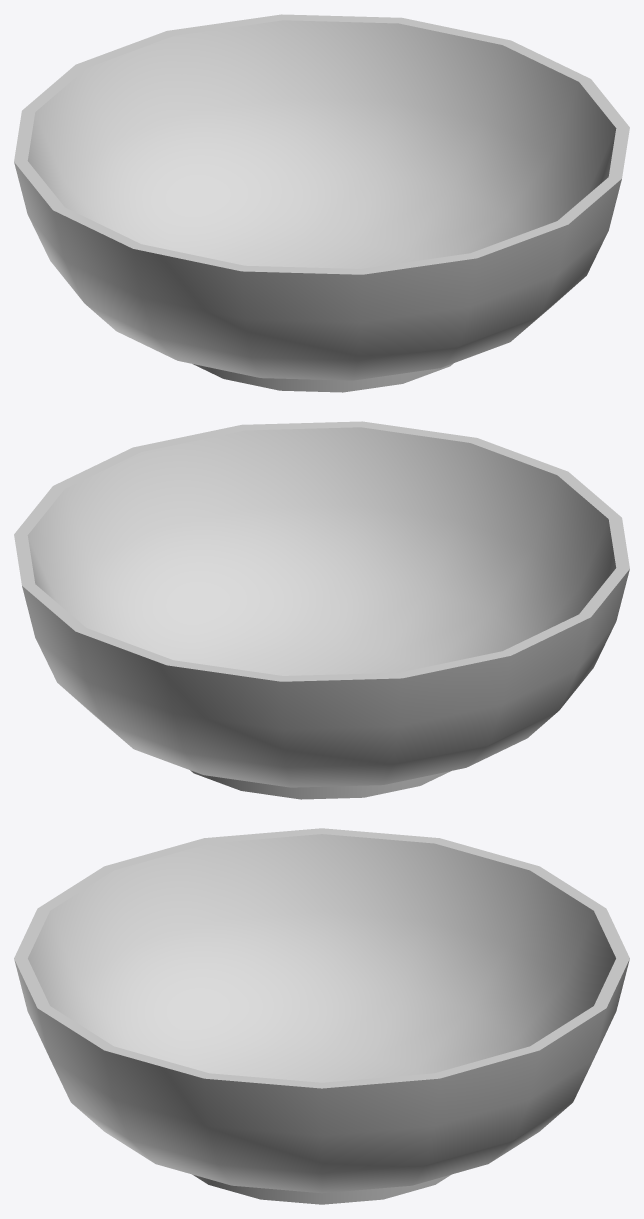
The model's file is SoupServingBowl_01.fbx.
3 renders of one model, top to bottom at view 1: azimuth 30°, elevation 25°; view 2: azimuth 150°, elevation 25°; view 3: azimuth 270°, elevation 25°, orthographic.
Visible parts, largest first — view 1: SoupServingBowl_01; view 2: SoupServingBowl_01; view 3: SoupServingBowl_01.
Part boxes in pixels (box(x1,y1,x2,y2)): SoupServingBowl_01: box(14, 14, 629, 392); SoupServingBowl_01: box(14, 421, 629, 799); SoupServingBowl_01: box(14, 828, 629, 1204).
Size of the model in its own units: 0.3008 by 0.0962 by 0.3008.
